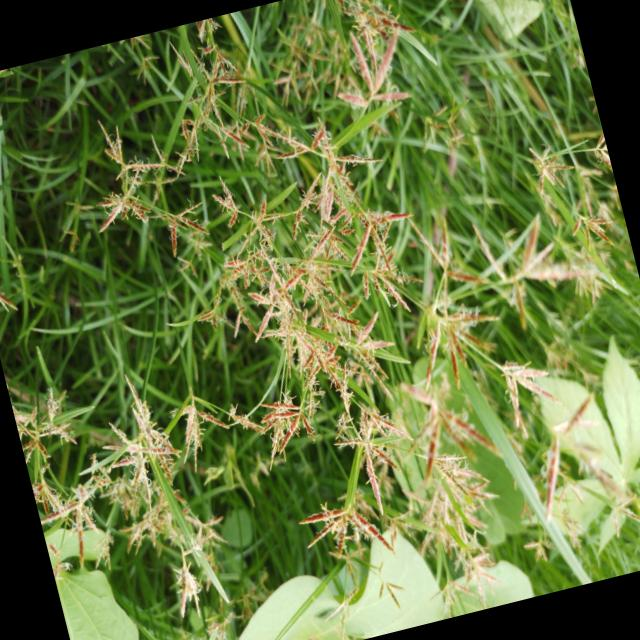cyperus: (192, 106, 532, 640), (14, 374, 240, 634), (70, 112, 208, 280), (155, 13, 264, 176), (513, 135, 628, 286), (305, 0, 422, 121), (452, 211, 552, 339), (514, 476, 596, 572), (487, 346, 568, 434), (262, 34, 337, 112), (122, 603, 252, 640), (0, 177, 32, 326), (596, 476, 640, 537)
